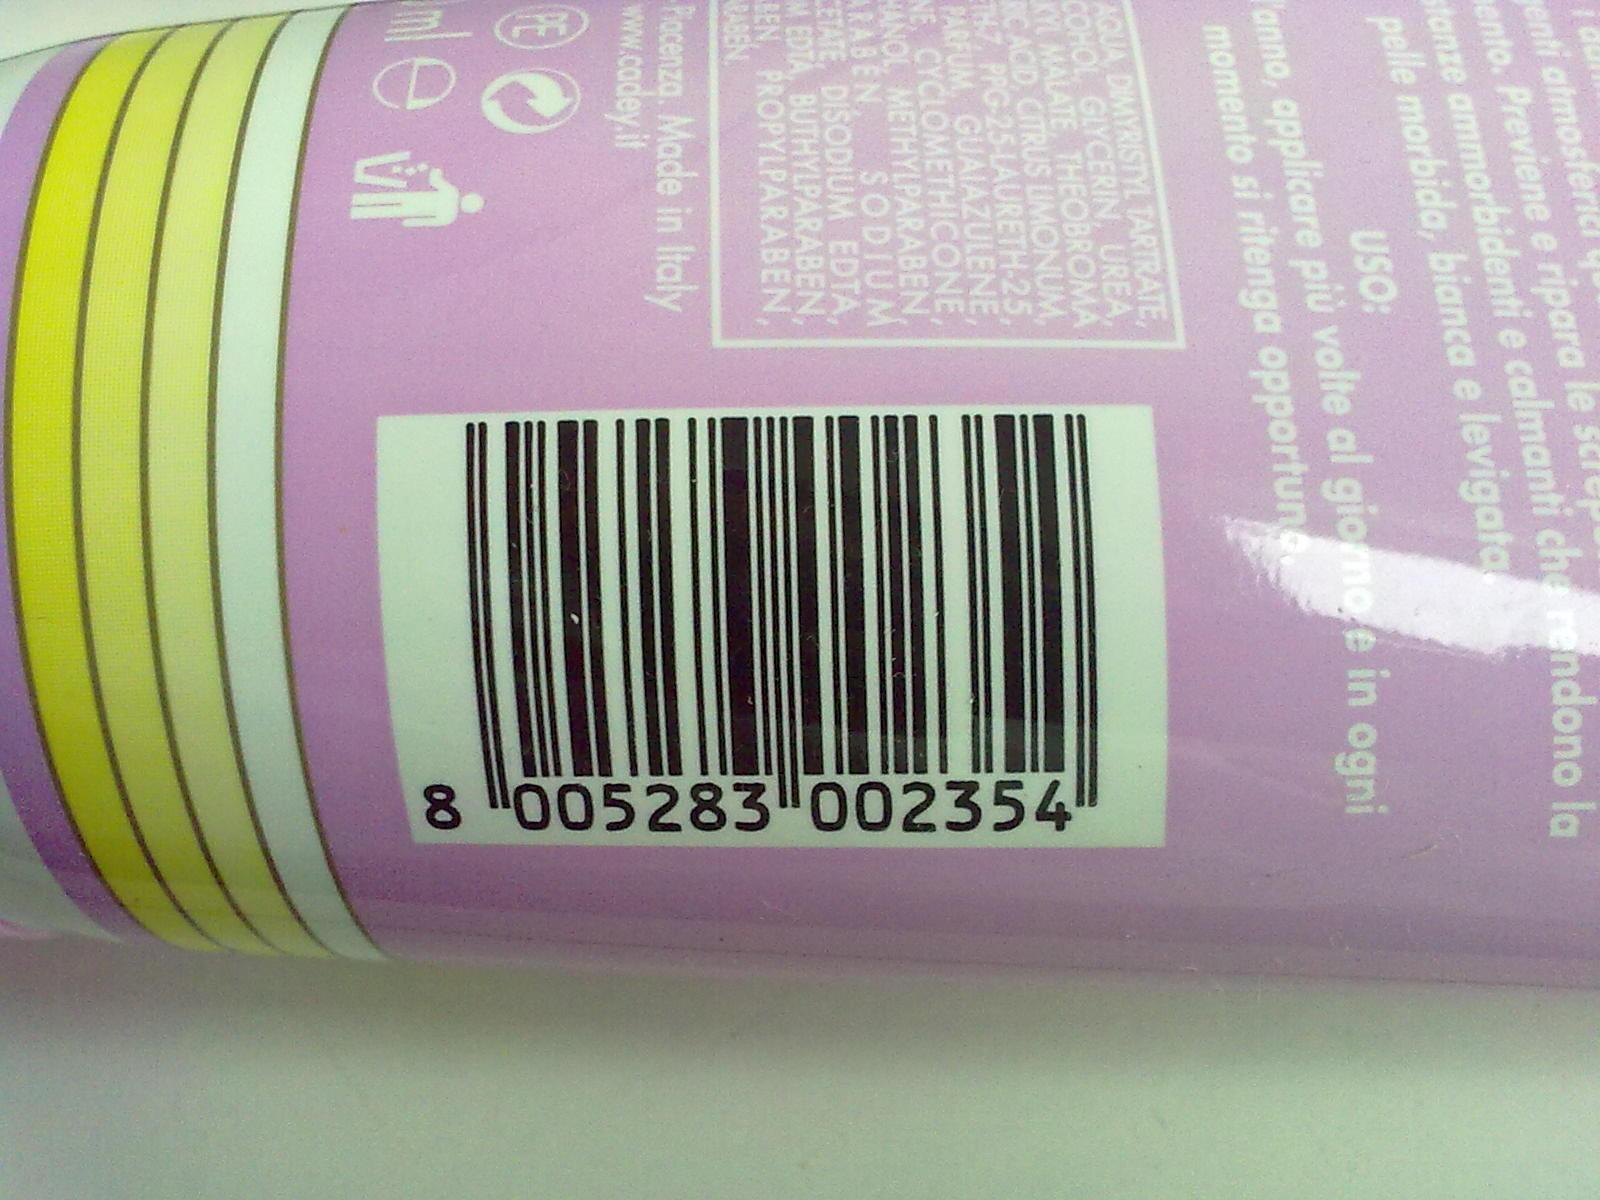barcode: (380, 406, 1172, 847)
